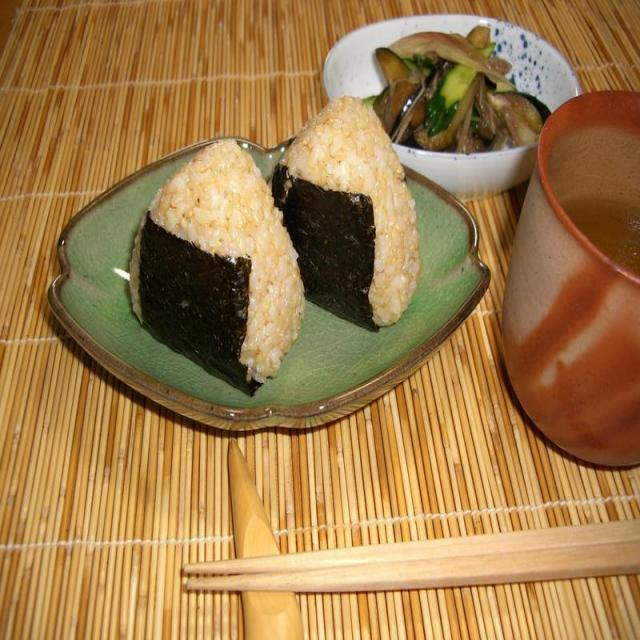米饭主食: (124, 123, 312, 394), (284, 70, 417, 342)
